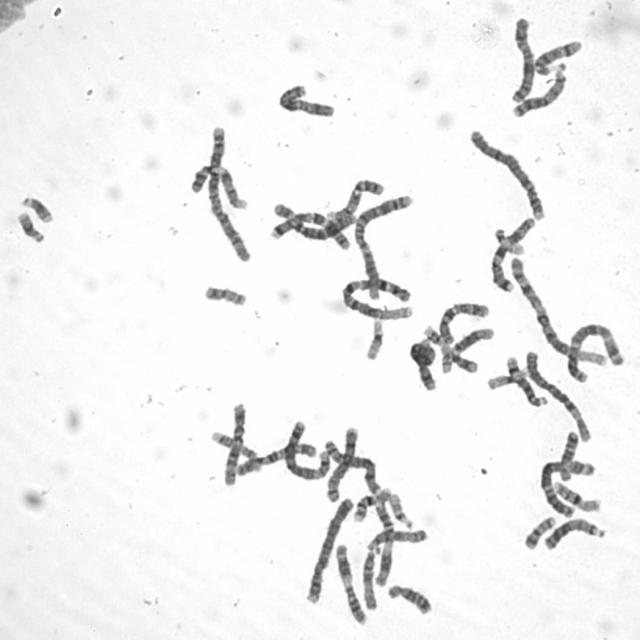A1: (506, 254, 607, 368), (338, 272, 416, 322)
A2: (202, 120, 252, 264), (352, 189, 415, 300)
A3: (562, 318, 626, 384), (534, 455, 597, 519)
B4: (465, 124, 548, 222), (300, 492, 356, 606)
B5: (281, 416, 333, 482), (409, 334, 445, 393)
C10: (230, 438, 318, 477), (435, 297, 491, 344)
C11: (331, 539, 367, 627), (370, 503, 402, 591)
C12: (222, 394, 254, 486), (440, 322, 495, 374)
C6: (520, 346, 593, 444), (269, 200, 354, 249)
C7: (488, 214, 538, 294), (271, 210, 360, 249)
C8: (324, 441, 384, 499), (321, 421, 360, 504)
C9: (321, 174, 390, 226), (185, 158, 250, 212)
D13: (507, 61, 567, 120), (540, 514, 606, 552)
D14: (503, 350, 550, 408), (530, 35, 584, 77)
D15: (363, 524, 429, 553), (358, 546, 380, 612)
E16: (550, 478, 602, 512), (350, 485, 392, 523)
E17: (206, 425, 262, 475), (422, 325, 478, 373)
E18: (383, 580, 433, 616), (555, 426, 580, 483)
F19: (483, 361, 533, 391), (361, 314, 386, 361)
F20: (520, 511, 558, 551), (199, 279, 248, 308)
G21: (16, 190, 55, 224), (13, 207, 46, 244)
G22: (384, 487, 416, 529), (492, 228, 526, 257)
X: (505, 11, 536, 104), (273, 79, 336, 119)
